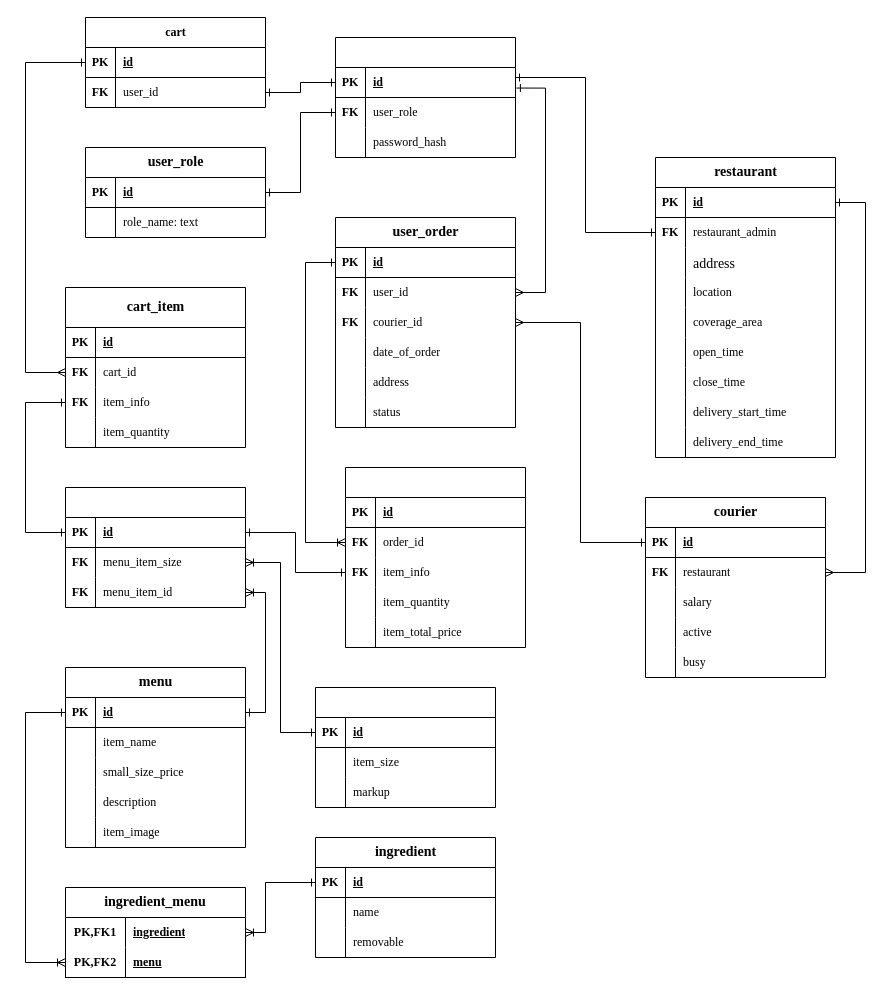
Image size: 892x995. Some labels were removed from this diagram. Each missing label, with the box of its shape:
app_user: (334, 36, 516, 158)
menu_item_info: (64, 486, 246, 608)
order_item: (344, 466, 526, 648)
size_category: (314, 686, 496, 808)
